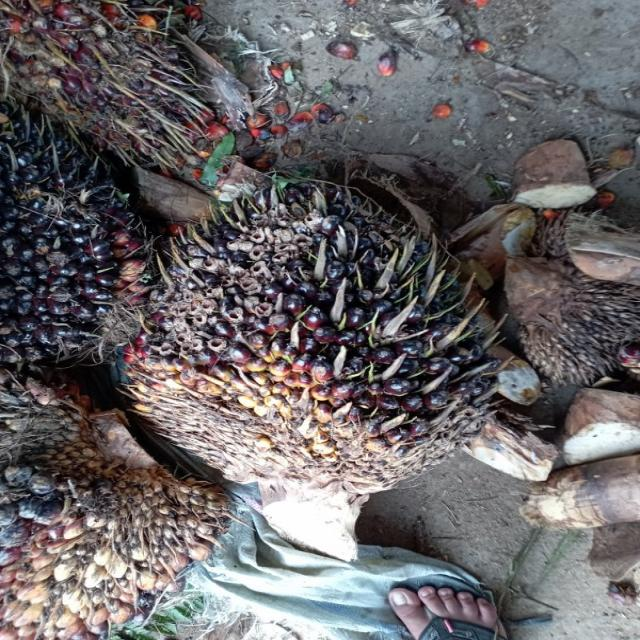fraksi 00: (100, 178, 508, 484), (0, 81, 169, 373)
